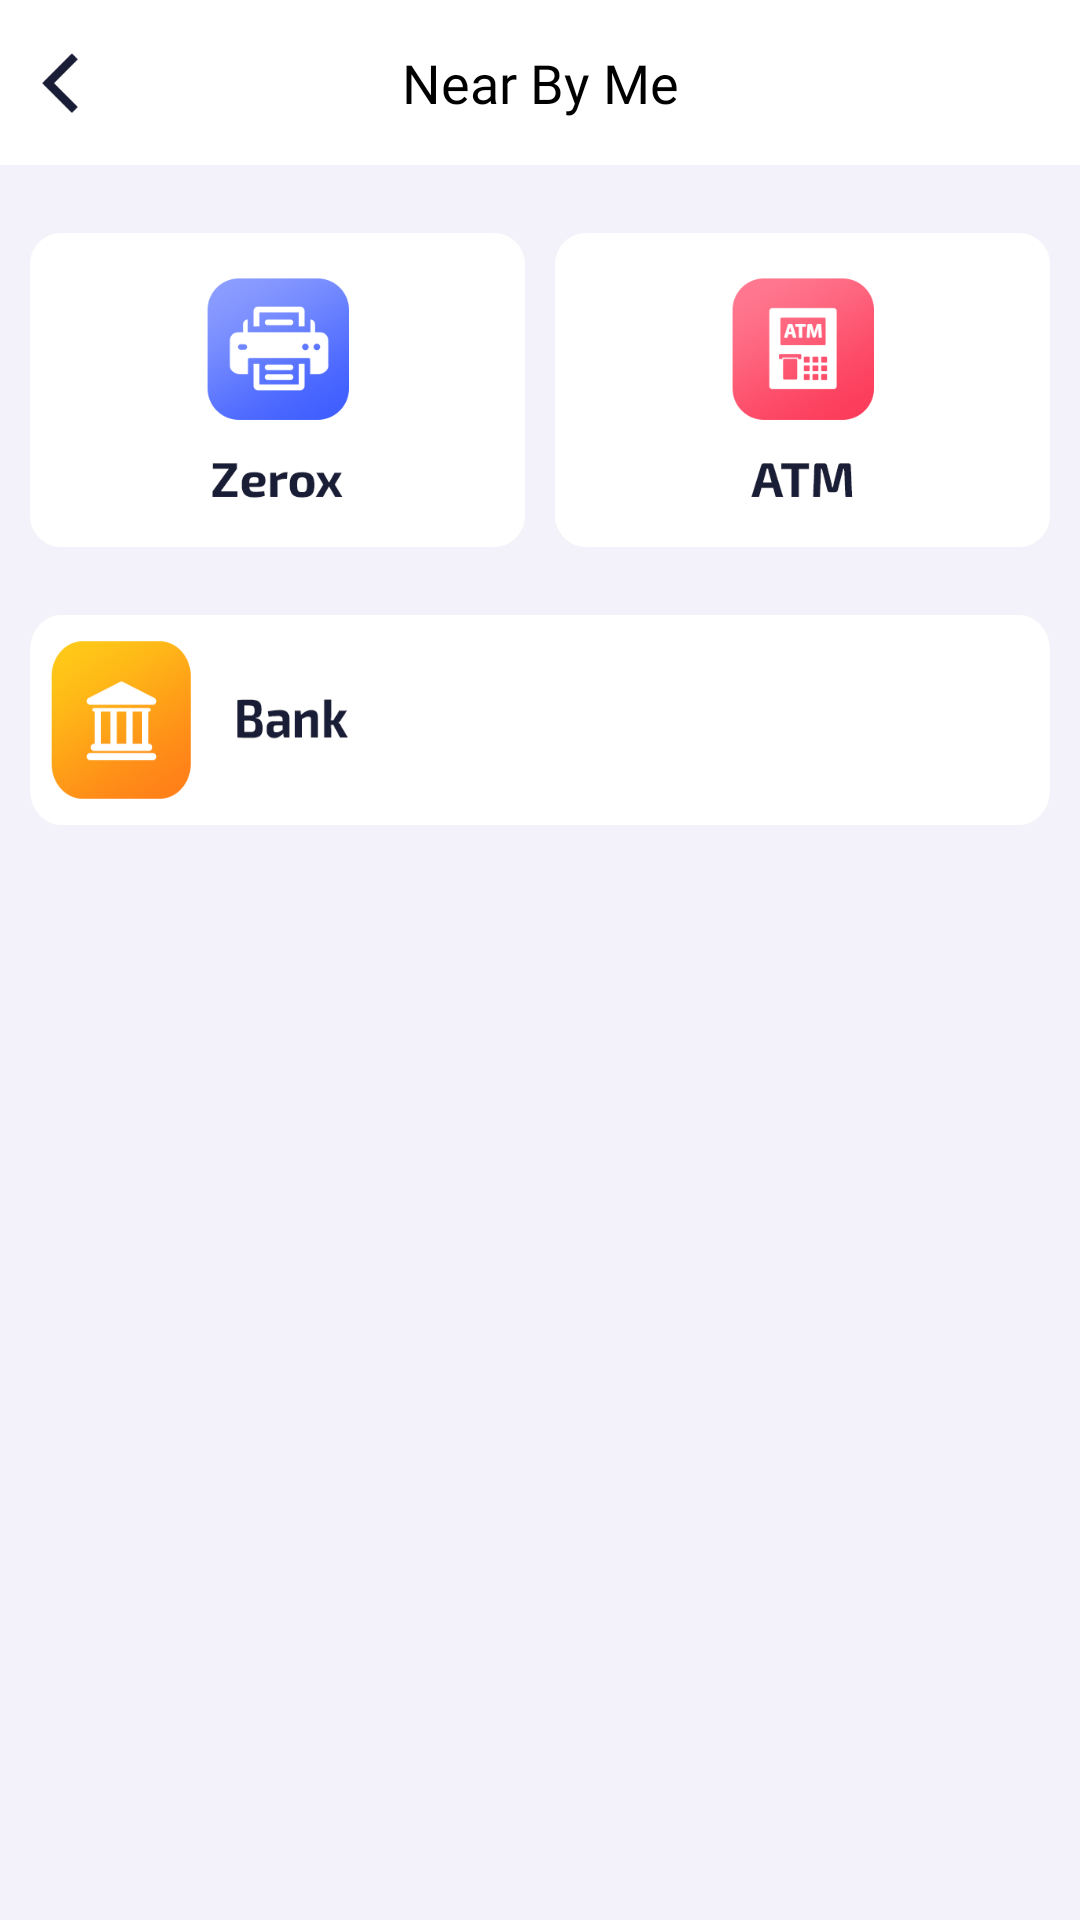

Named icons in this screenshot (1080*1920) and their bounding boxes, (x1, y1, x2, y2):
back: (42, 53, 78, 113)
